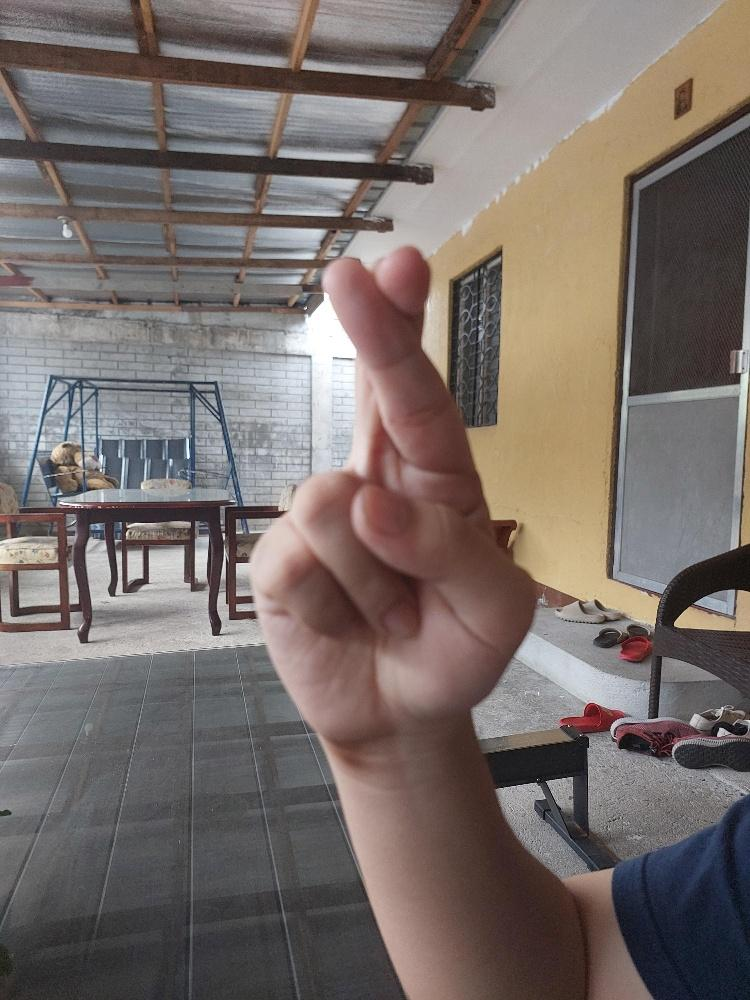r: (245, 239, 540, 747)
